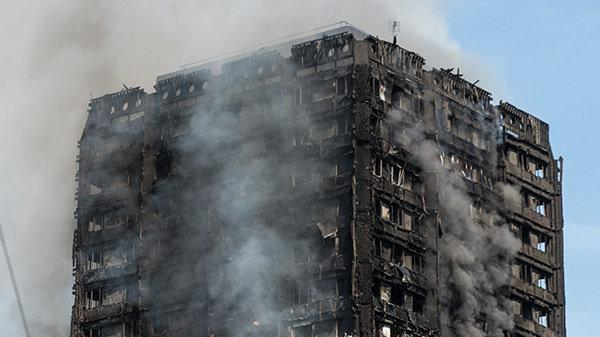smoke: (439, 132, 479, 313)
